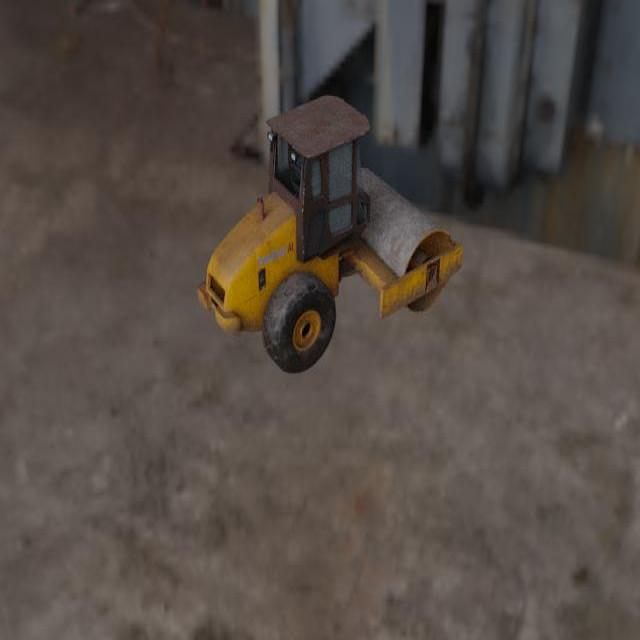Roller: (197, 95, 463, 373)
